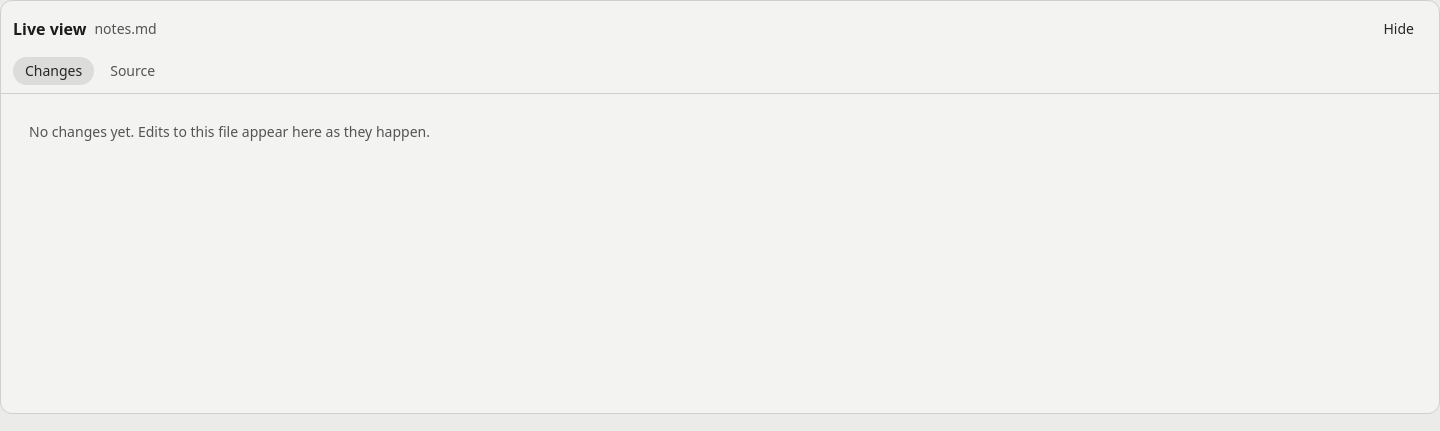
Scenario: FilePreview › Hide and Show toggle the body
Expected: the element showing "Changes Source" is shown, [13,57,167,85]
Click the button "Hide".
click(1399, 29)  # box [1370,9,1427,49]
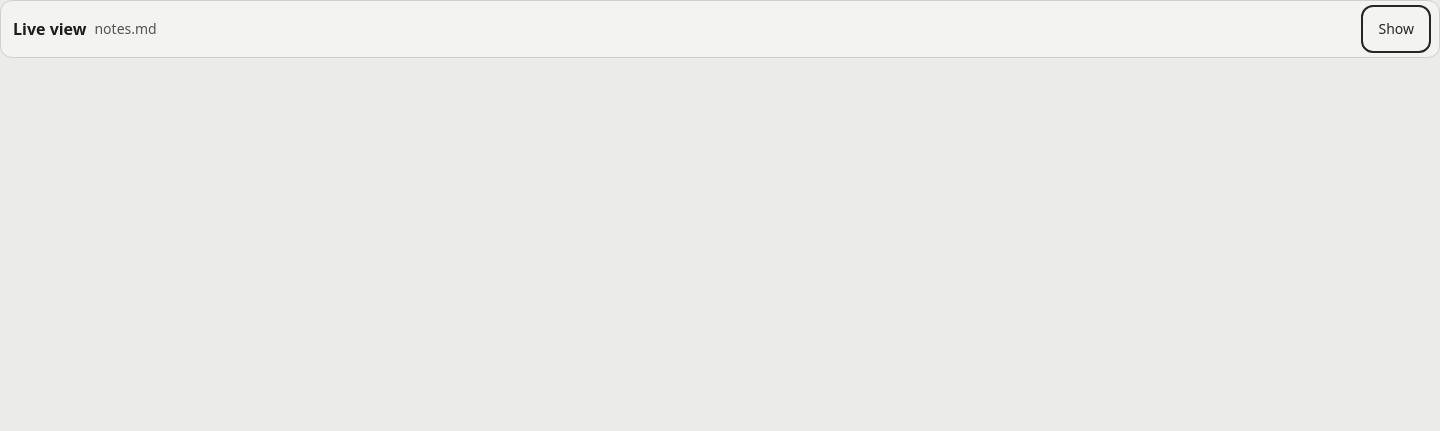
Click the button "Show".
click(1396, 29)  # box [1366,9,1427,49]
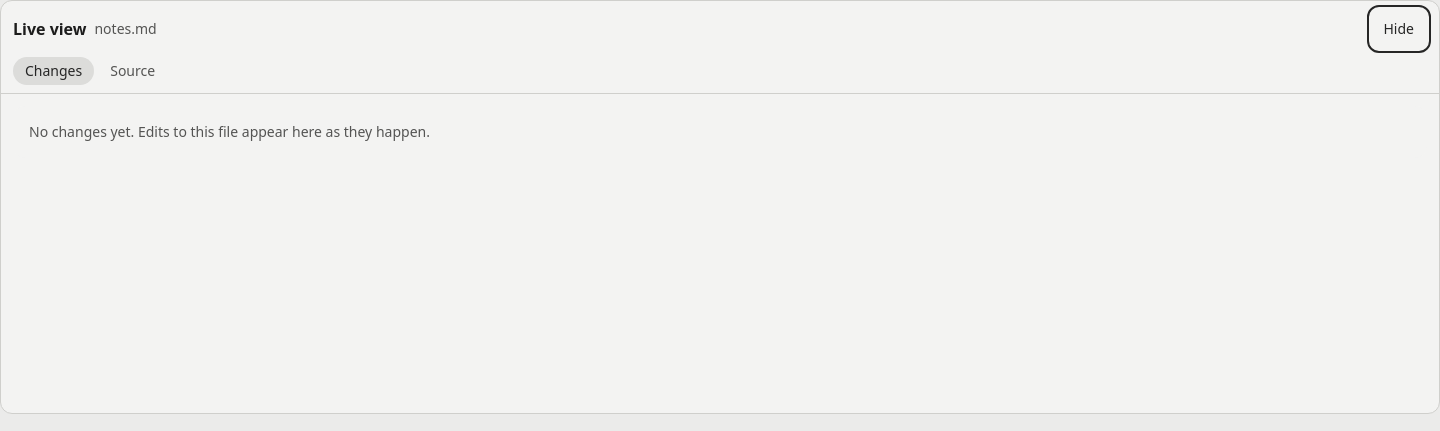
Expected: the element showing "Changes Source" is shown, [13,57,167,85]
